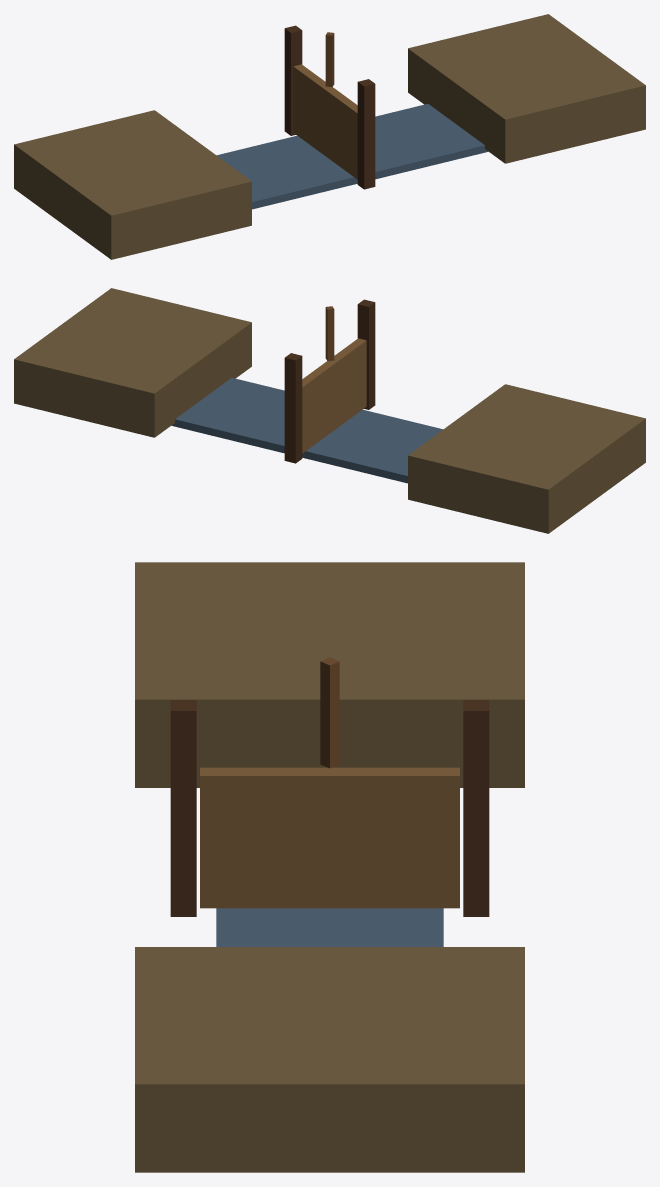
The model's file is a1r_water_gate.glb.
The picture shows the model from 3 angles, top to bottom: view 1: azimuth 30°, elevation 25°; view 2: azimuth 150°, elevation 25°; view 3: azimuth 270°, elevation 25°; orthographic projection. The views are drawn at different scales.
Visible parts, largest first — view 1: a1r_water_gate; view 2: a1r_water_gate; view 3: a1r_water_gate.
Boxes of the visible parts, left/top/right/bottom form: a1r_water_gate: left=14, top=14, right=645, bottom=259; a1r_water_gate: left=14, top=288, right=645, bottom=533; a1r_water_gate: left=135, top=562, right=524, bottom=1172.
Bounding box in the file's own units: 3.8 × 0.875 × 1.2.
